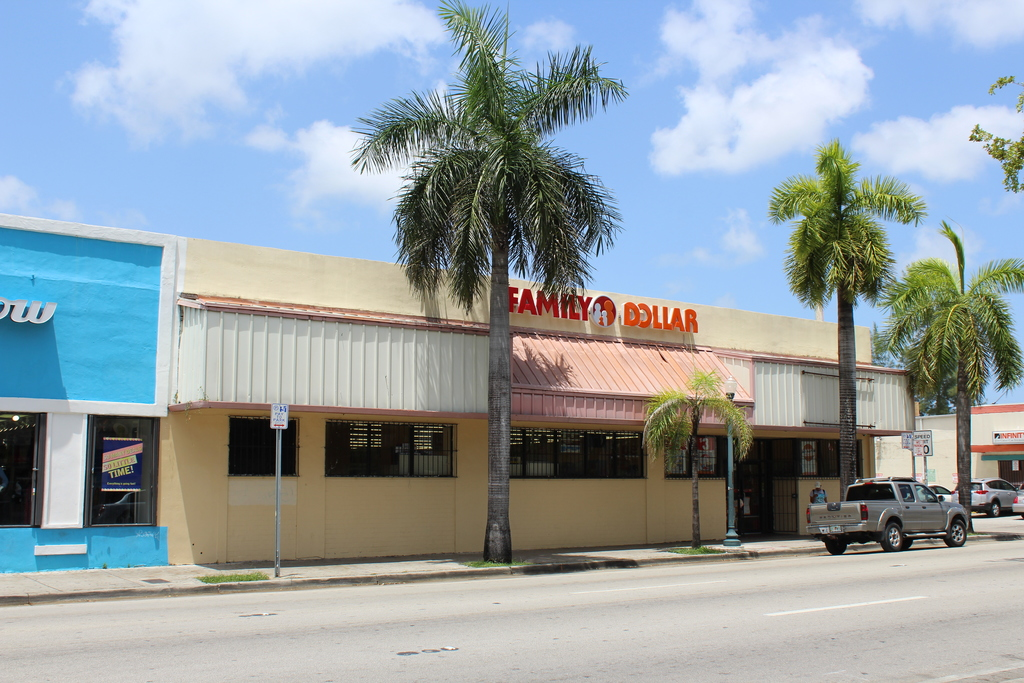Car: (951, 480, 1020, 518)
